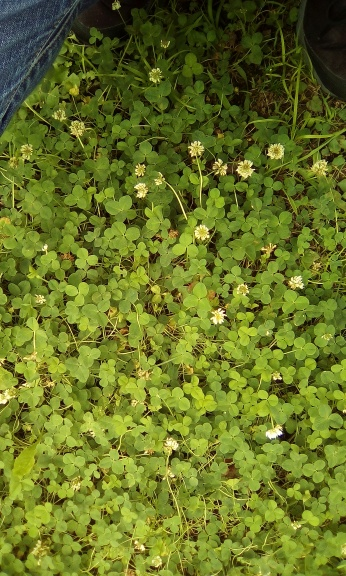4leaf: (188, 258, 208, 276)
